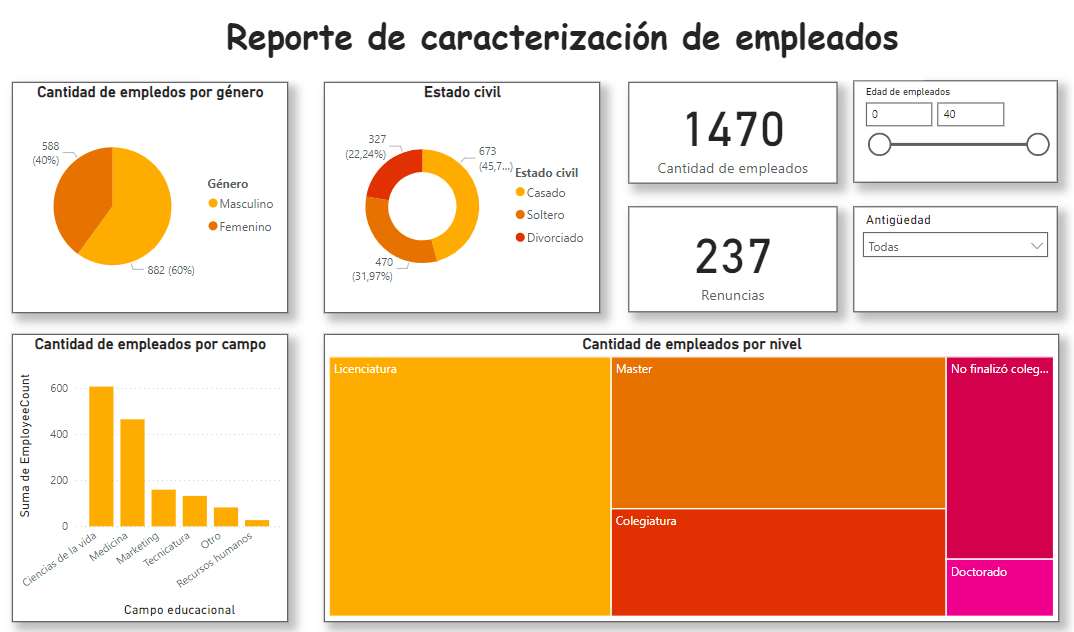

This screenshot's page, from the dashboard's own definition file:
{"tool":"powerbi","page":{"name":"Página 1","canvas":[1280,720],"ordinal":0},"visuals":[{"type":"pieChart","title":"Cantidad de empledos por género","fields":{"Category":["HR-Employee.Gender"],"Y":["Sum(HR-Employee.EmployeeCount)"]},"box":[29.8,102.7,306.4,256.8],"z":0},{"type":"columnChart","title":"Cantidad de empleados por campo","fields":{"Category":["HR-Employee.EducationField"],"Y":["Sum(HR-Employee.EmployeeCount)"]},"box":[29.8,382.6,306.4,319.7],"z":1000},{"type":"treemap","title":"Cantidad de empleados por nivel","fields":{"Group":["HR-Employee.Education"],"Values":["Sum(HR-Employee.EmployeeCount)"]},"box":[376,382.6,816.6,319.7],"z":2000},{"type":"donutChart","title":"Estado civil","fields":{"Category":["HR-Employee.MaritalStatus"],"Y":["Sum(HR-Employee.EmployeeCount)"]},"box":[376,102.7,306.4,256.8],"z":3000},{"type":"card","fields":{"Values":["Sum(HR-Employee.EmployeeCount)"]},"box":[715.6,102.7,231.9,112.6],"z":4000},{"type":"card","fields":{"Values":["CountNonNull(HR-Employee.Attrition)"]},"box":[715.6,241.8,231.9,117.6],"z":5000},{"type":"slicer","fields":{"Values":["HR-Employee.TotalWorkingYears"]},"box":[965.7,241.8,226.9,117.6],"z":6000},{"type":"slicer","fields":{"Values":["HR-Employee.TotalWorkingYears"]},"box":[965.7,102,226.8,113.4],"z":7000},{"type":"textbox","box":[240,20.8,803.2,81.3],"z":8000}]}

Visuals, with their boxes on the page's 1280x720 design canvas (x1, y1, x2, y2). These are canvas units, not pixel positions in the 1074x632 screenshot, which may show the page scaled, cropped or inside an application window:
"Cantidad de empledos por género" pieChart: [x1=30, y1=103, x2=336, y2=360]
"Cantidad de empleados por campo" columnChart: [x1=30, y1=383, x2=336, y2=702]
"Cantidad de empleados por nivel" treemap: [x1=376, y1=383, x2=1193, y2=702]
"Estado civil" donutChart: [x1=376, y1=103, x2=682, y2=360]
card - Sum(HR-Employee.EmployeeCount): [x1=716, y1=103, x2=948, y2=215]
card - CountNonNull(HR-Employee.Attrition): [x1=716, y1=242, x2=948, y2=359]
slicer - HR-Employee.TotalWorkingYears: [x1=966, y1=242, x2=1193, y2=359]
slicer - HR-Employee.TotalWorkingYears: [x1=966, y1=102, x2=1192, y2=215]
textbox: [x1=240, y1=21, x2=1043, y2=102]
